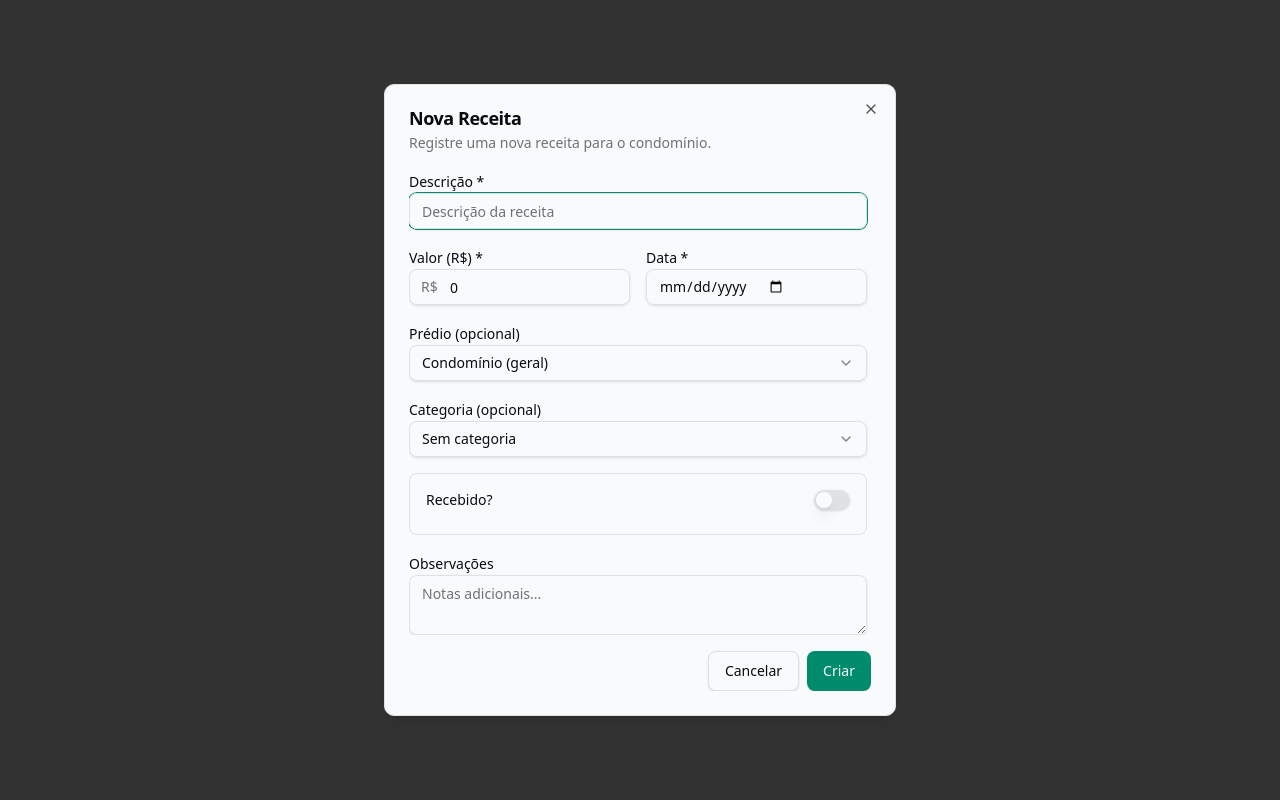
Test case: IncomeEntryFormModal › reveals the received_date field only when is_received is toggled on (watch)
Expected: the field labelled "Data de recebimento *" is not shown
Click the switch.
click(832, 500)  # box [814,490,850,510]
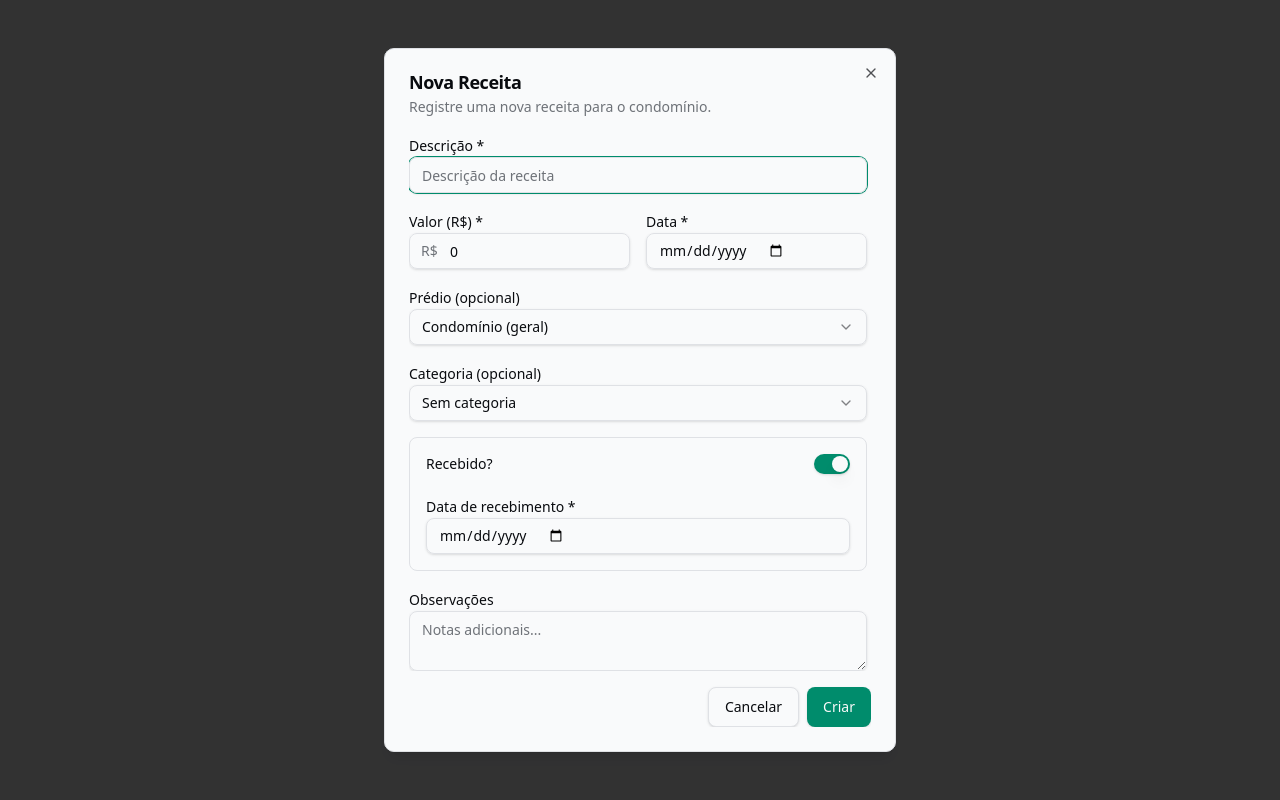
Expected: the date field labelled "Data de recebimento *" is shown, [426,518,850,554]
